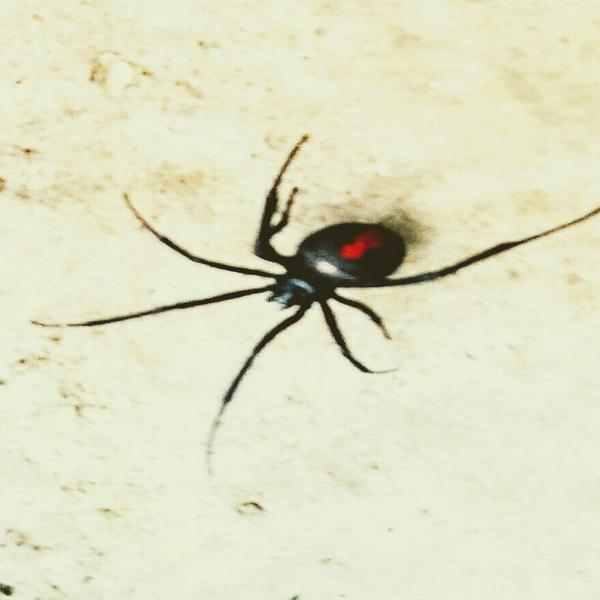Redback Spider: (56, 139, 578, 424)
